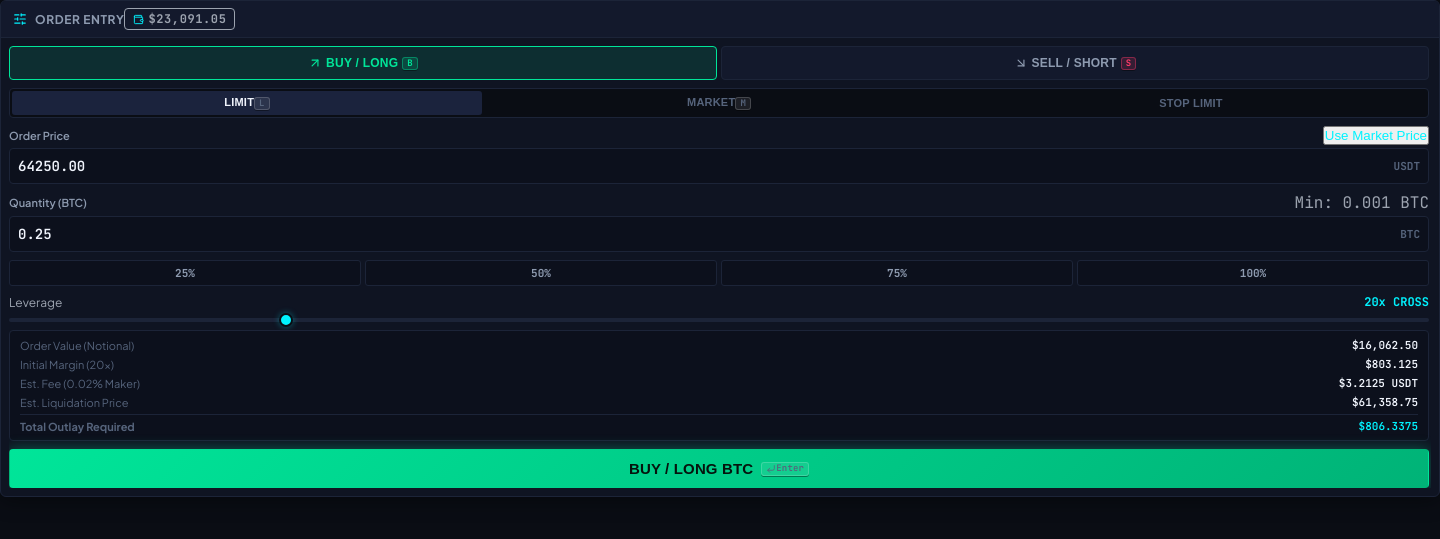
Test case: Phase 8 — Order Form Feature › validates invalid price and quantity and disables submit button
This screenshot has width=1440, height=539.
# Set invalid price 0
Replace the text in the number field labelled "Order Price" with "0" at (706, 166), box [18, 149, 1394, 183]
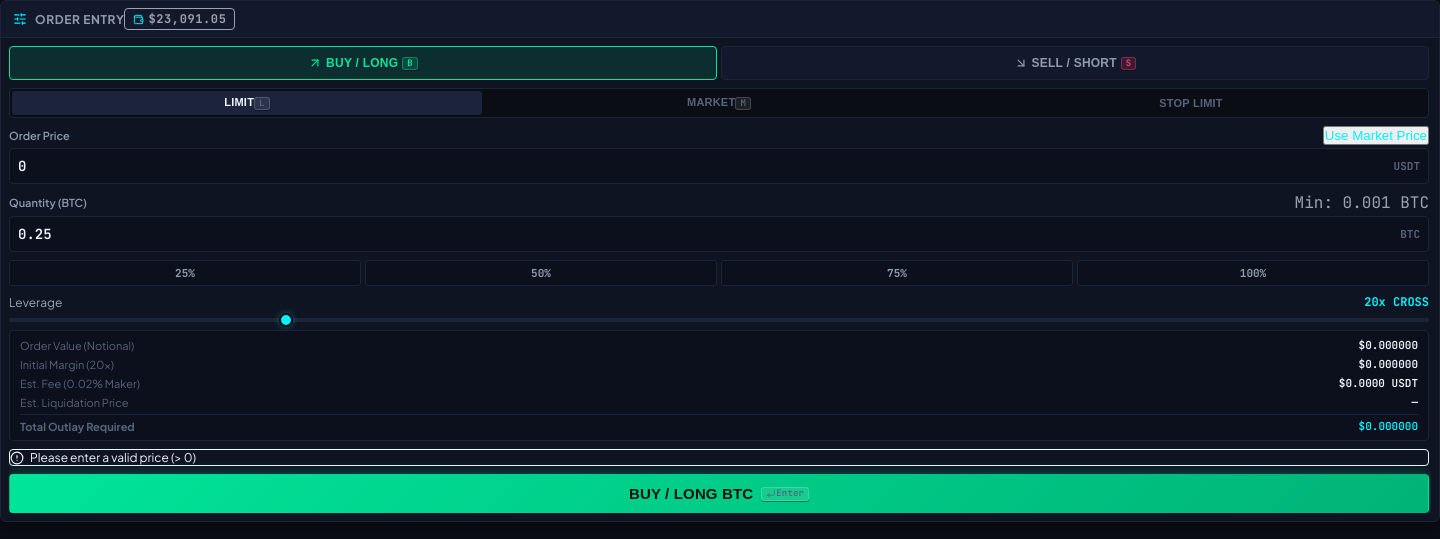
Now the message with test id "order-validation-error" shows "valid price", box [30, 450, 196, 465]
Now the button with test id "order-submit-btn" is disabled, box [9, 474, 1429, 513]
# Restore price and set invalid size 0
Replace the text in the number field labelled "Order Price" with "64000" at (706, 166), box [18, 149, 1394, 183]
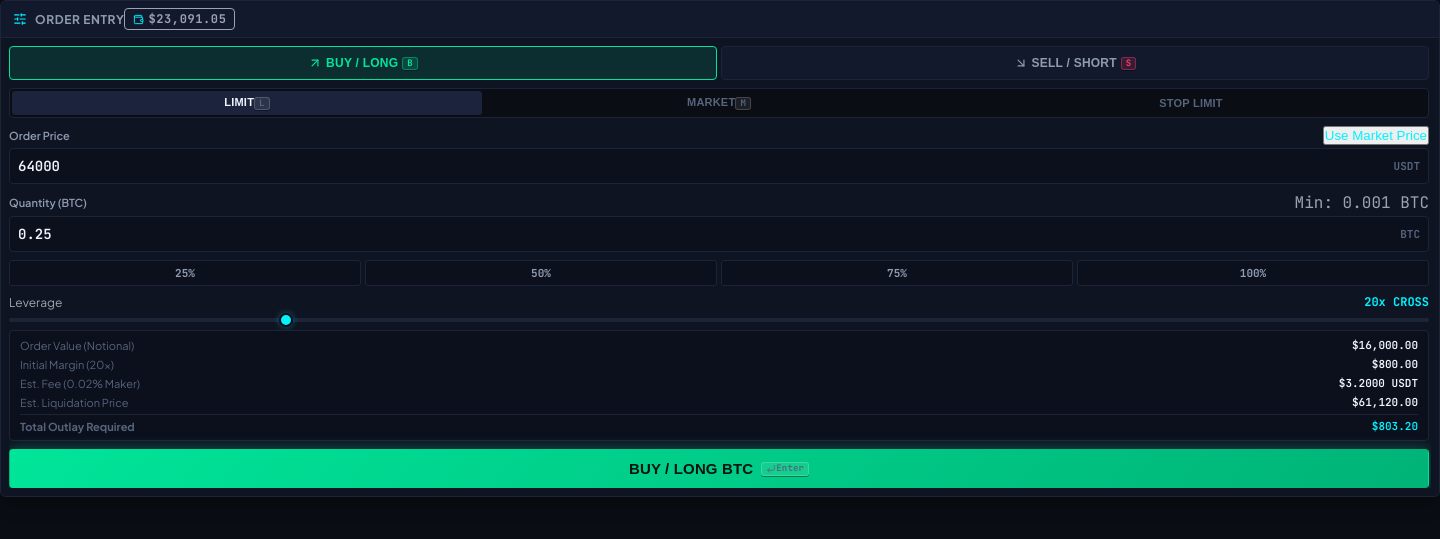
Replace the text in the number field labelled "Quantity (BTC)" with "0" at (709, 234), box [18, 217, 1400, 251]
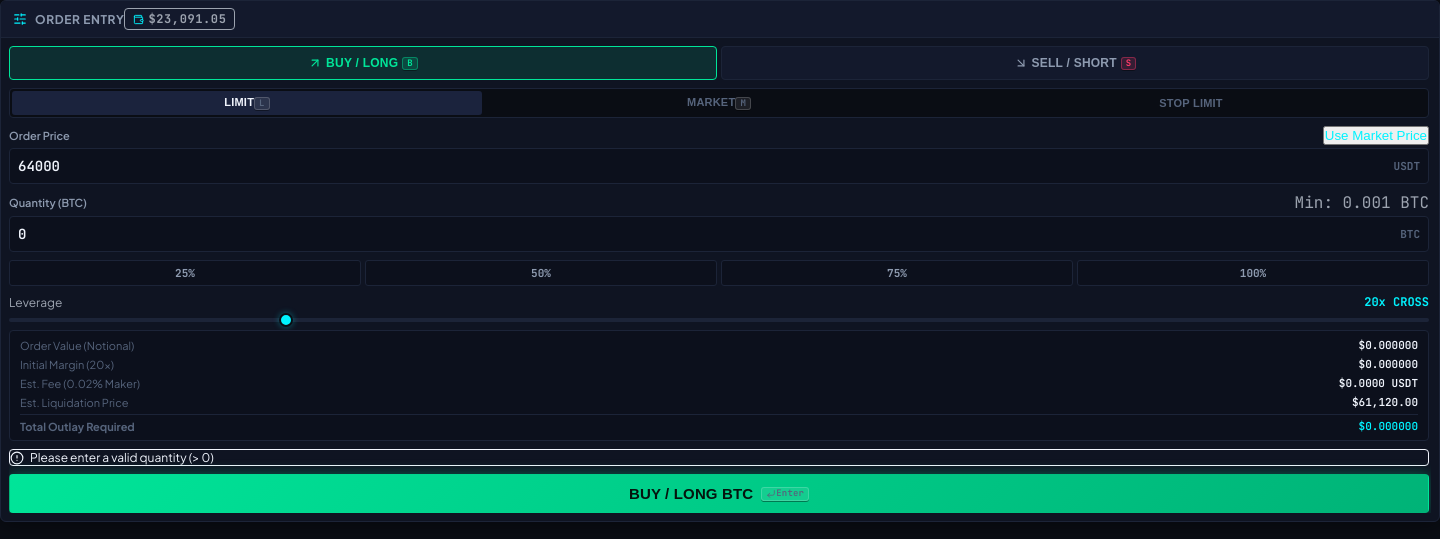
Now the message with test id "order-validation-error" shows "valid quantity", box [30, 450, 214, 465]
Now the button with test id "order-submit-btn" is disabled, box [9, 474, 1429, 513]
